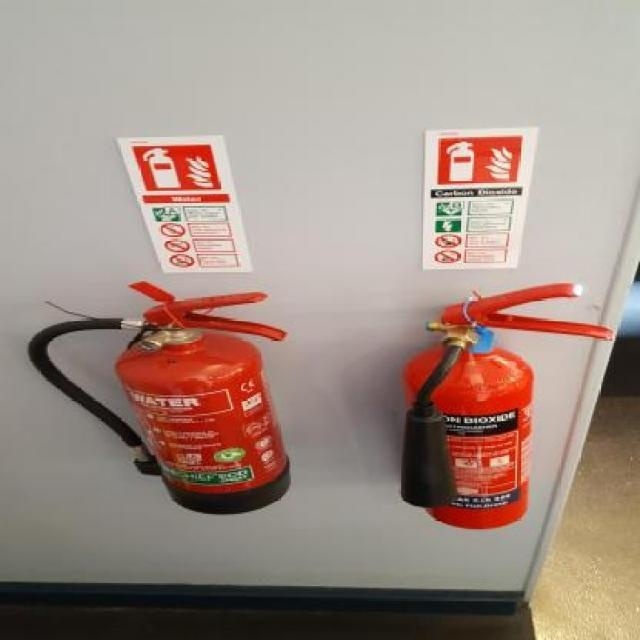fire extinguisher: (26, 282, 289, 515), (400, 281, 605, 527)
